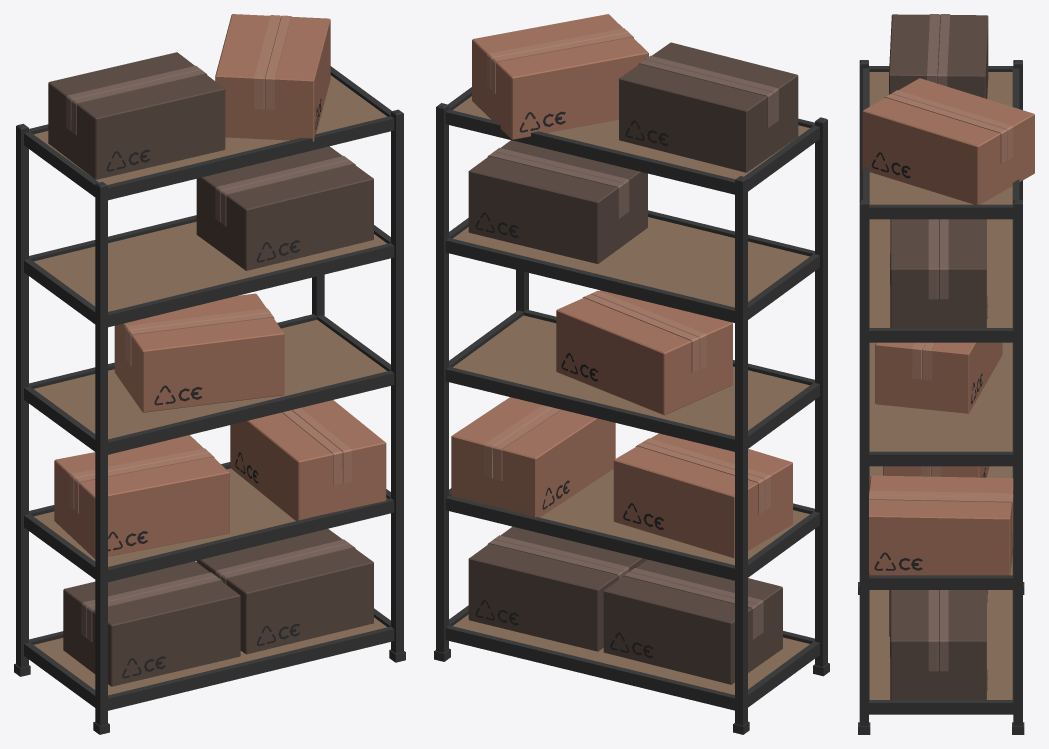
File: props_57.glb
3 renders of one model, left to right at view 1: azimuth 30°, elevation 25°; view 2: azimuth 150°, elevation 25°; view 3: azimuth 270°, elevation 25°, orthographic. The views are drawn at different scales.
Parts seen in each view (by area): view 1: props_57; view 2: props_57; view 3: props_57.
Part boxes in pixels (left/top/right/bottom): props_57: left=14, top=14, right=405, bottom=734; props_57: left=434, top=14, right=829, bottom=734; props_57: left=858, top=14, right=1034, bottom=734.
Bounding box in the file's own units: 1.97 × 3.69 × 1.01.
Materials: 1 (1 with a texture image).
